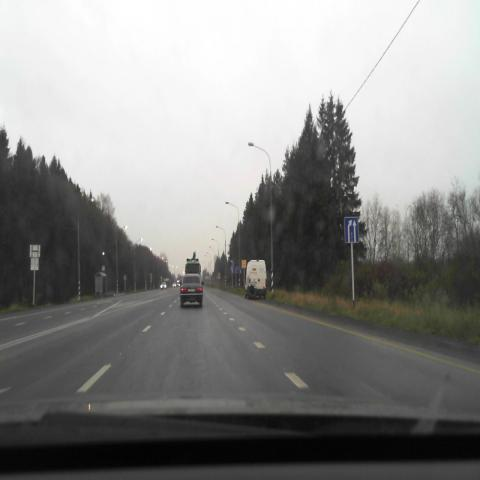5_15_5: (344, 216, 359, 243)
